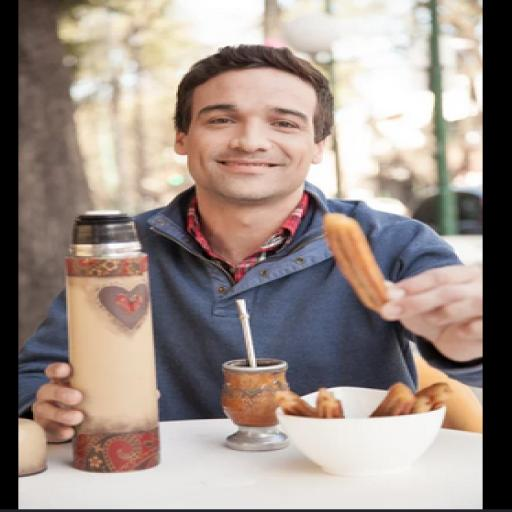bolleria: (325, 213, 385, 311)
mate: (222, 300, 288, 450)
termo: (66, 212, 158, 472)
